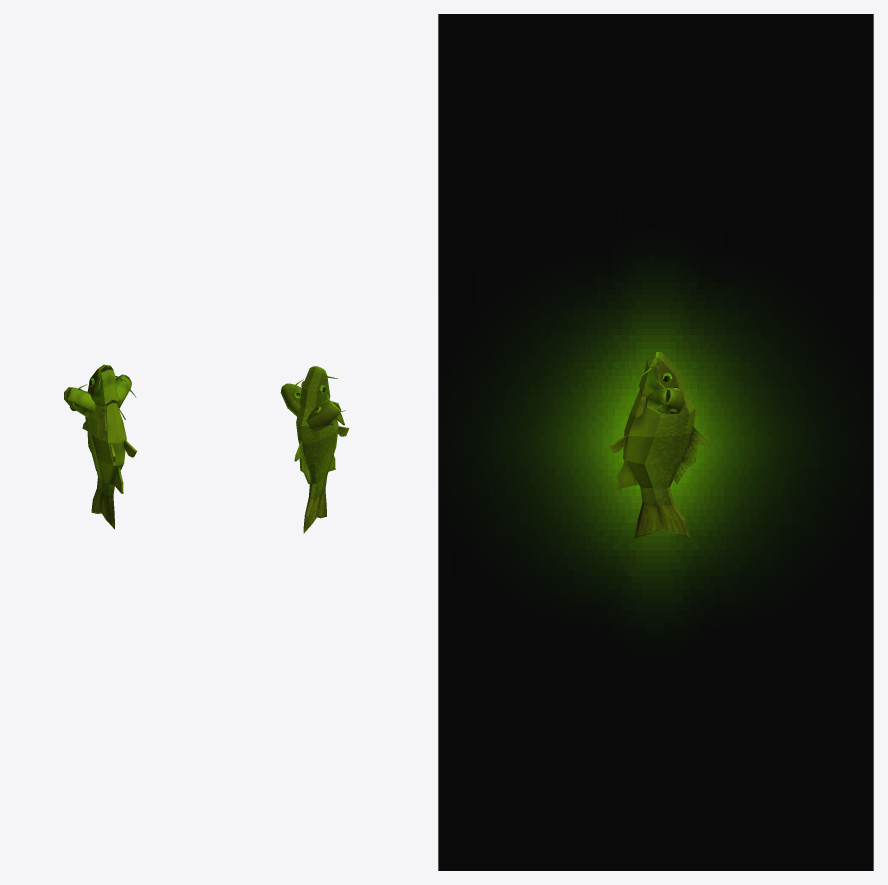
The model's file is item_fish_hydracarp.glb.
The picture shows the model from 3 angles, left to right: view 1: azimuth 30°, elevation 25°; view 2: azimuth 150°, elevation 25°; view 3: azimuth 270°, elevation 25°; orthographic projection. The views are drawn at different scales.
Visible parts, largest first — view 1: fish_carp_mutated; view 2: fish_carp_mutated; view 3: Quad, fish_carp_mutated.
Boxes of the visible parts, <box> form: fish_carp_mutated: <box>64,364,136,529</box>; fish_carp_mutated: <box>280,366,349,533</box>; Quad: <box>438,14,873,870</box>; fish_carp_mutated: <box>609,352,709,538</box>.
Bounding box in the file's own units: 0.2211 × 2.43 × 1.12.
2 materials, 2 textured.
